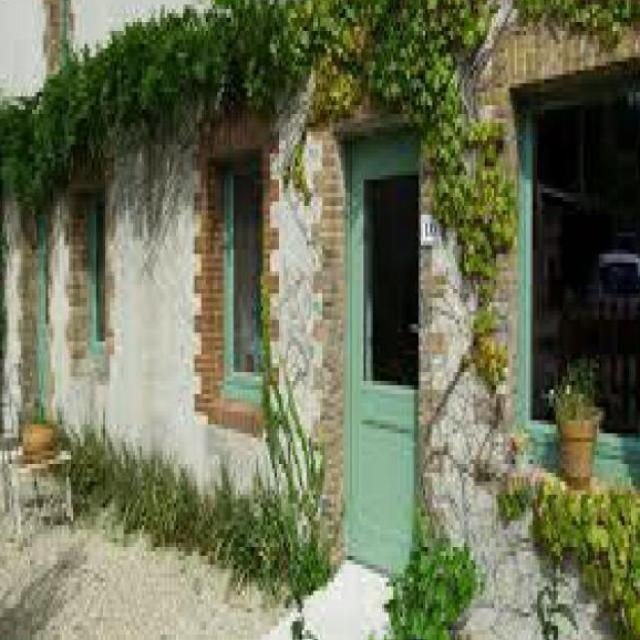door: (342, 130, 421, 578)
